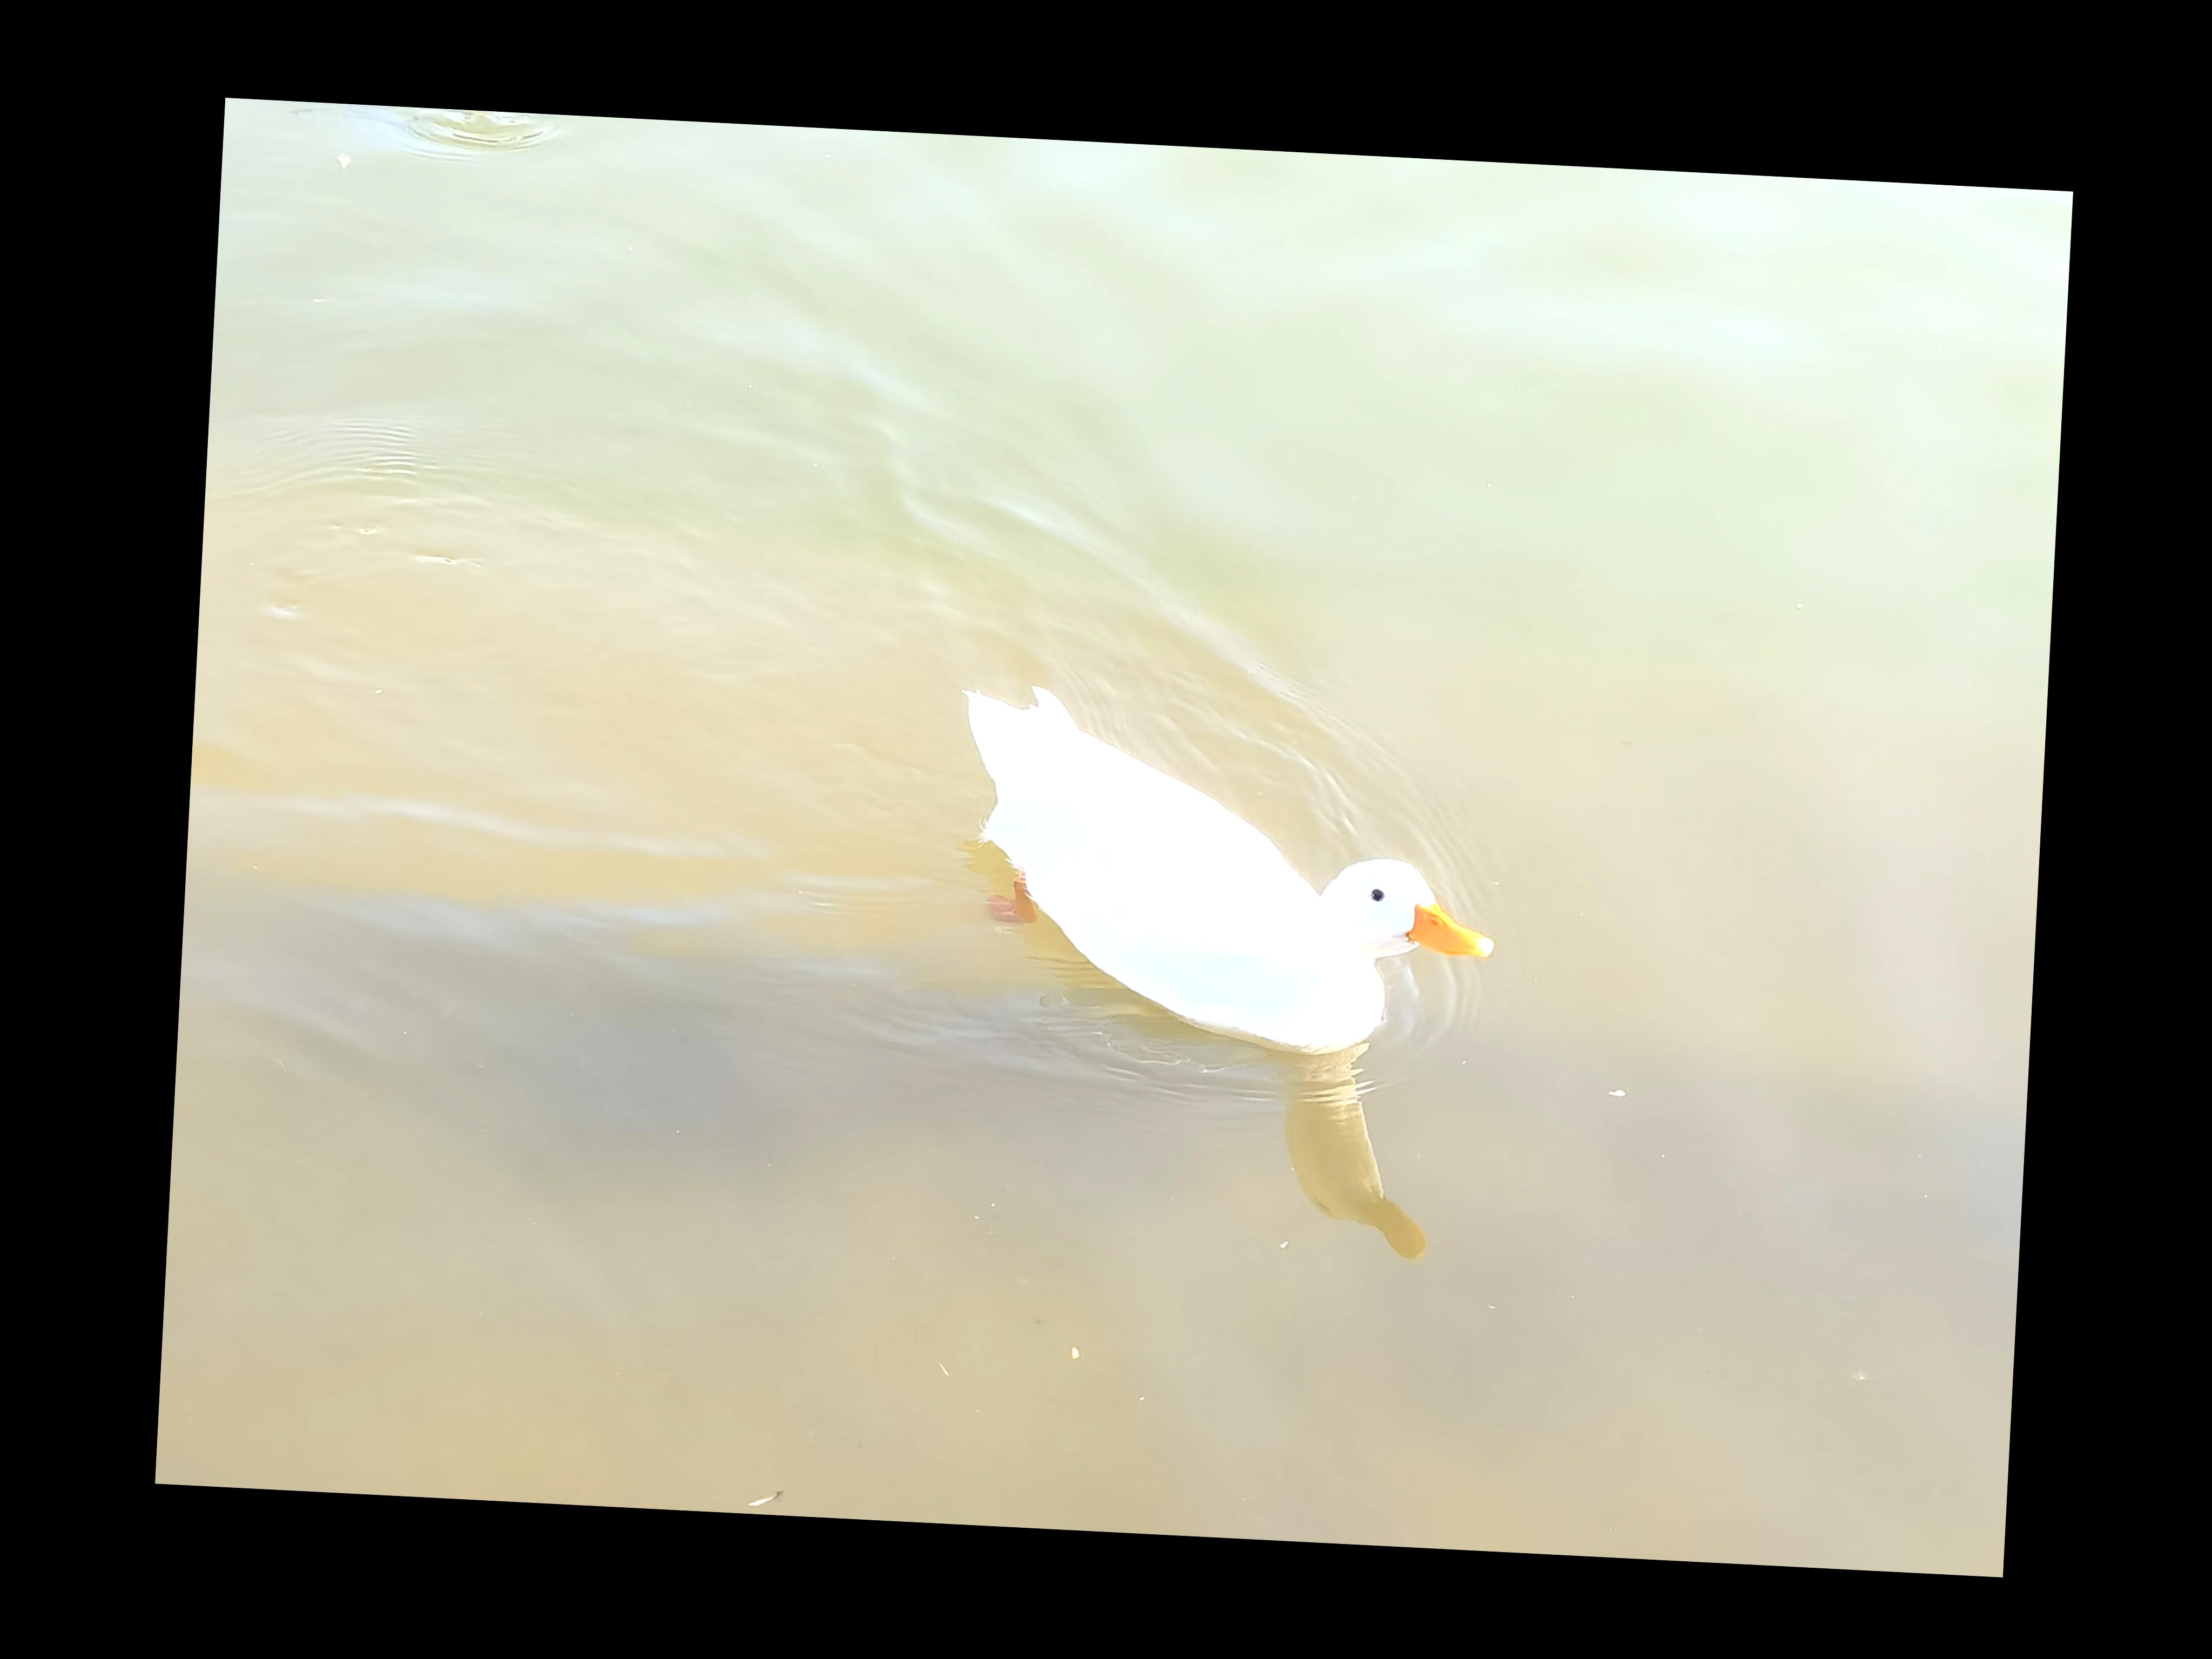duck: (925, 659, 1521, 1093)
